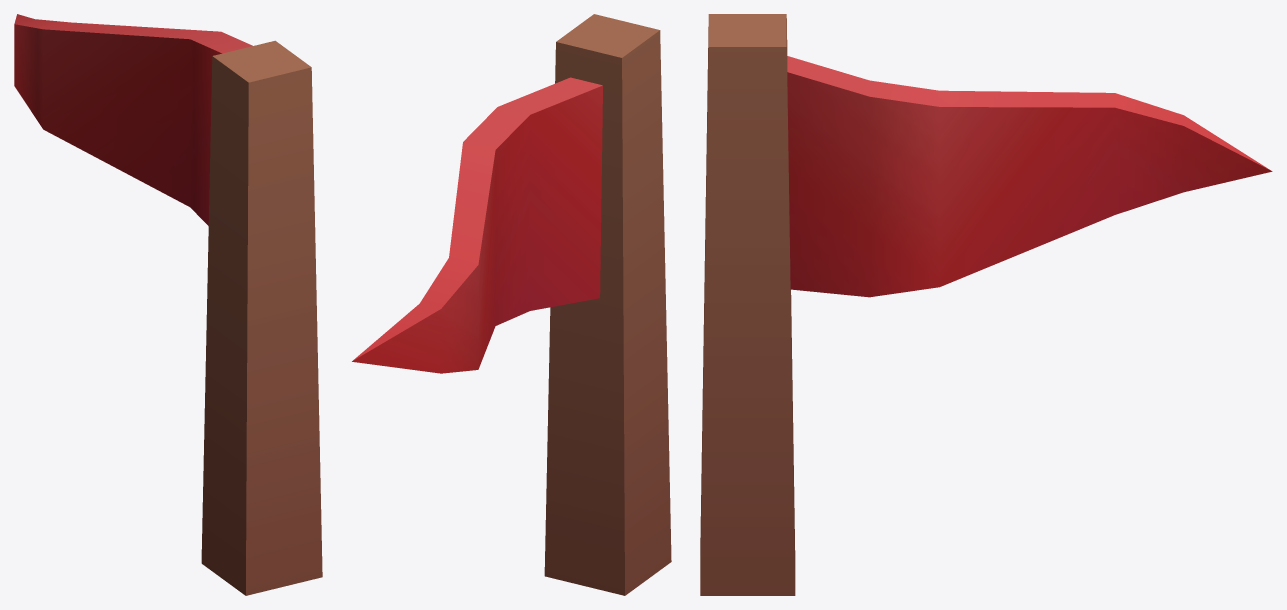
Rendered from flag_red.glb.
3 views of the same model, side by side, from view 1: azimuth 30°, elevation 25°; view 2: azimuth 150°, elevation 25°; view 3: azimuth 270°, elevation 25° (orthographic). The views are drawn at different scales.
Visible parts, largest first — view 1: flag_red; view 2: flag_red; view 3: flag_red.
Part boxes in pixels (x1,y1,x2,y2): flag_red: (14,14,322,595); flag_red: (352,14,671,595); flag_red: (700,14,1272,595).
Size of the model in its own units: 0.055 by 0.2775 by 0.264.
Materials: 1 (1 with a texture image).
